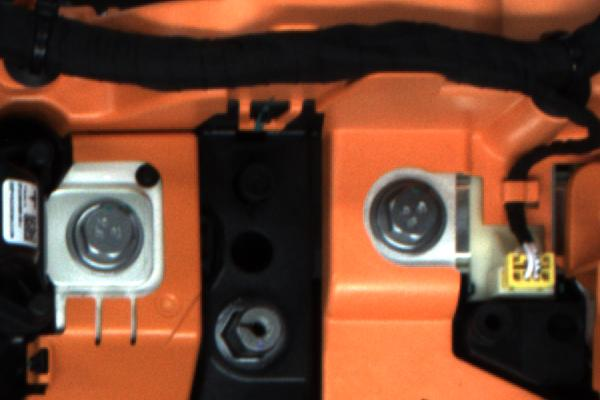nut_b: (62, 200, 148, 275), (368, 179, 448, 255)
